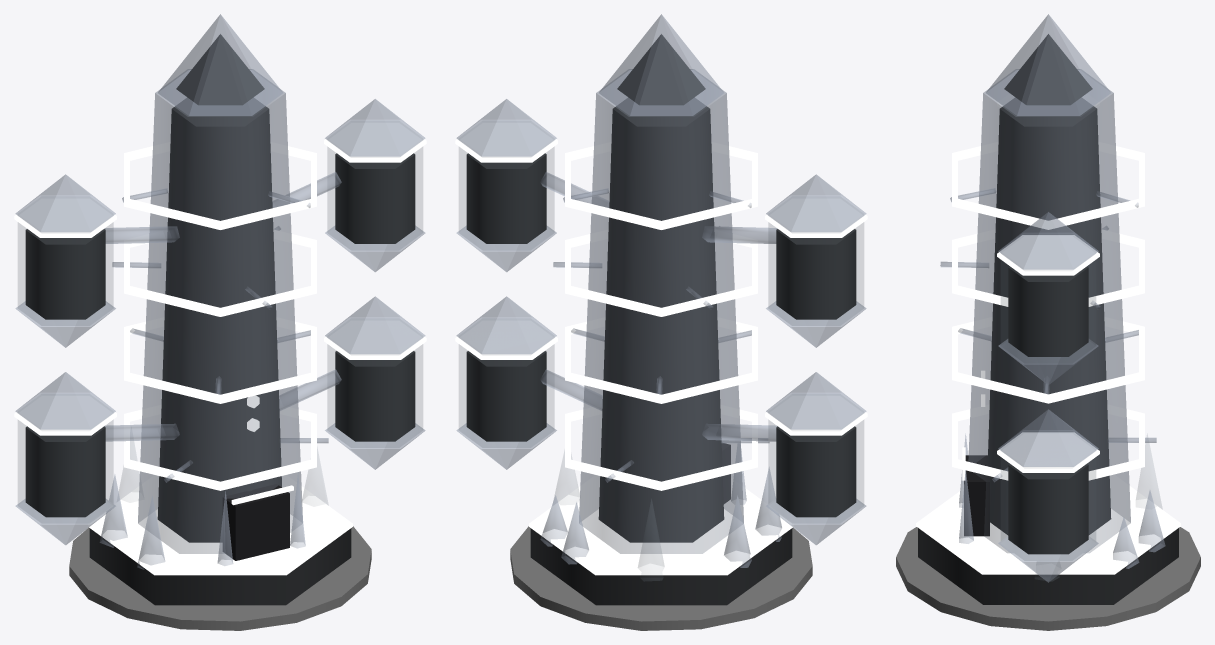
Rendered from Skin_Crystal_T3.glb.
3 views of the same model, side by side, from view 1: azimuth 30°, elevation 25°; view 2: azimuth 150°, elevation 25°; view 3: azimuth 270°, elevation 25° (orthographic).
Parts seen in each view (by area): view 1: Skin_Crystal_T3; view 2: Skin_Crystal_T3; view 3: Skin_Crystal_T3.
Boxes of the visible parts, x1,y1,x2,y2 form: Skin_Crystal_T3: (14, 14, 426, 630); Skin_Crystal_T3: (455, 14, 867, 630); Skin_Crystal_T3: (896, 14, 1200, 630).
Size of the model in its own units: 5.12 by 7 by 3.5.
